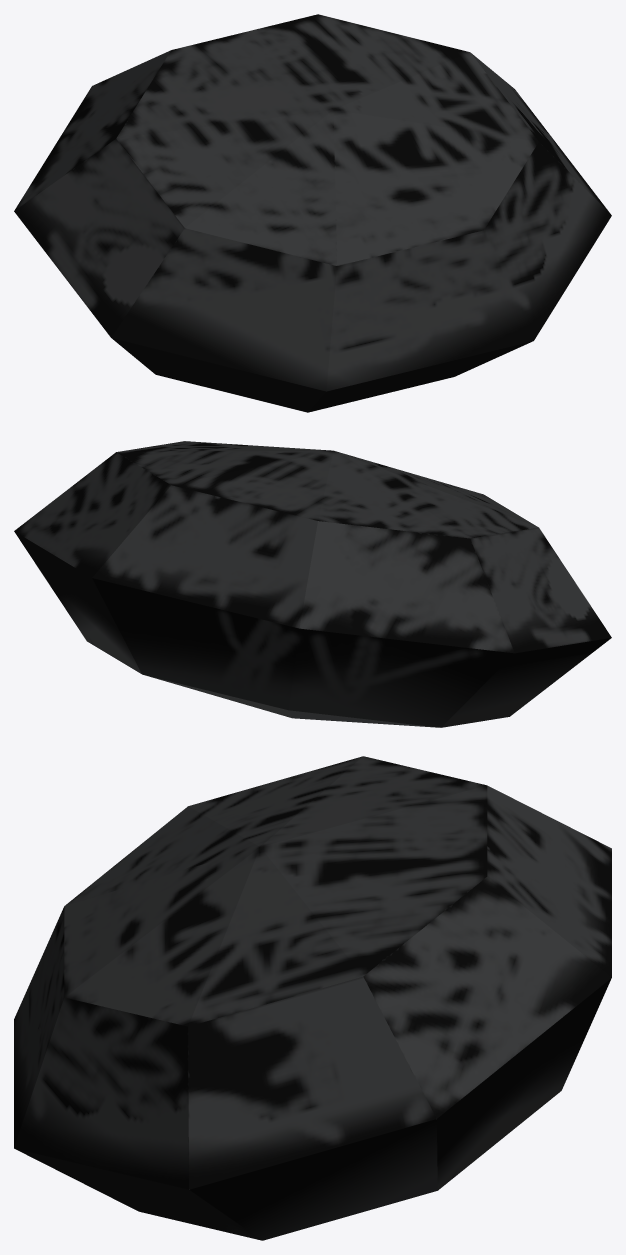
File: TRASH.obj
The picture shows the model from 3 angles, top to bottom: view 1: azimuth 30°, elevation 25°; view 2: azimuth 150°, elevation 25°; view 3: azimuth 270°, elevation 25°; orthographic projection. The views are drawn at different scales.
Parts seen in each view (by area): view 1: sphere; view 2: sphere; view 3: sphere.
Boxes of the visible parts, x1,y1,x2,y2 form: sphere: (14, 14, 611, 412); sphere: (14, 441, 611, 727); sphere: (14, 756, 611, 1240).
Size of the model in its own units: 5 by 2.51 by 4.05.
1 material, 1 textured.
